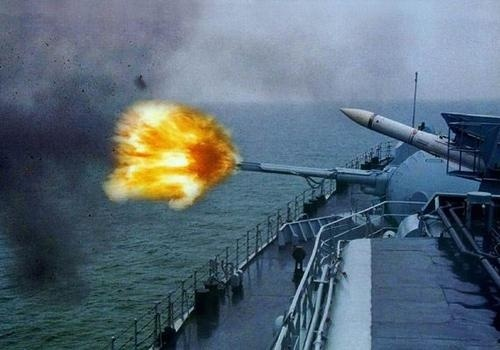fire: (108, 96, 237, 203)
